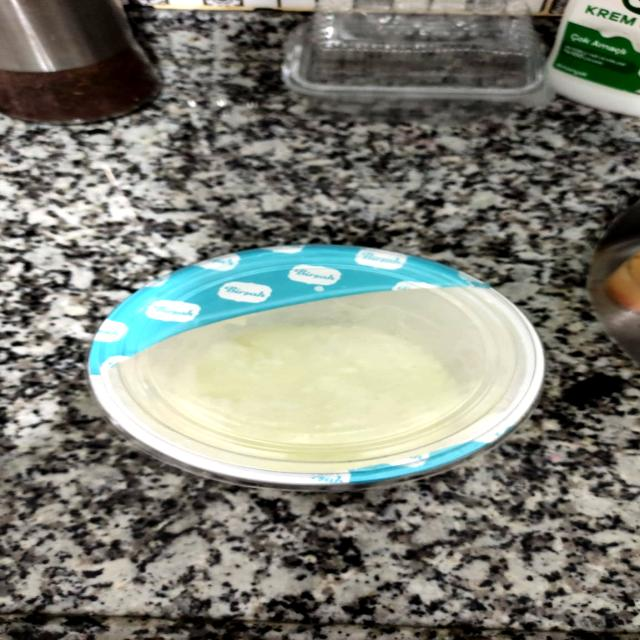yogurt: (66, 232, 586, 494)
